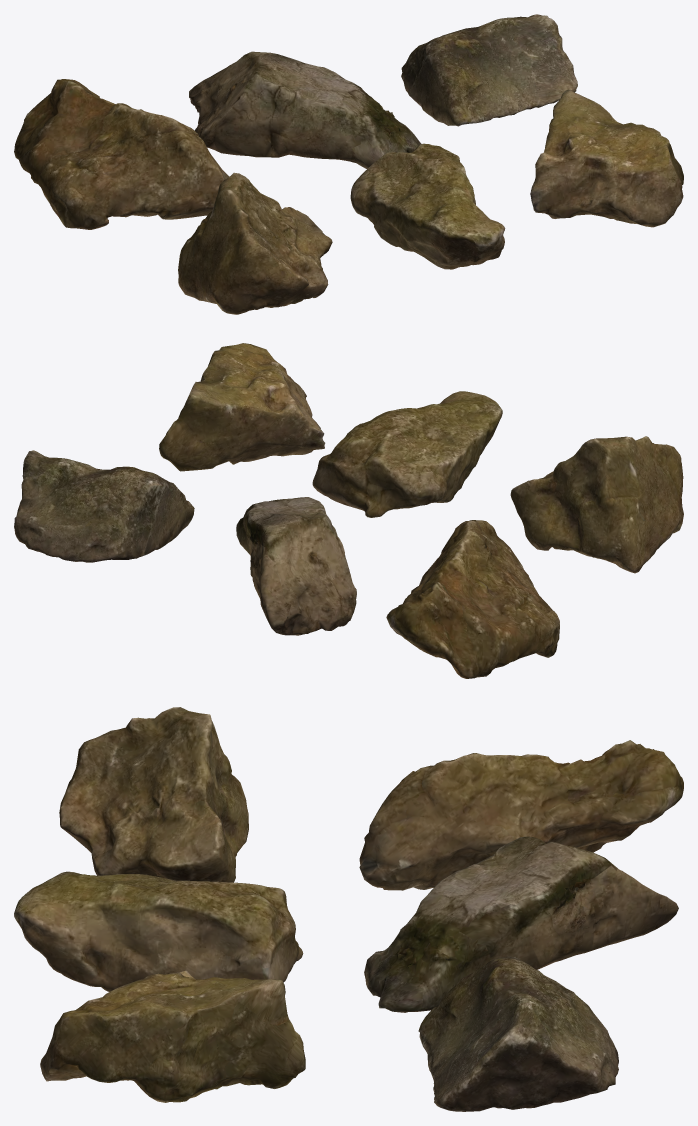
Rendered from stones.glb.
3 views of the same model, one above another, from view 1: azimuth 30°, elevation 25°; view 2: azimuth 150°, elevation 25°; view 3: azimuth 270°, elevation 25° (orthographic). The views are drawn at different scales.
Parts seen in each view (by area): view 1: rock_moss_set_01_rock01, rock_moss_set_01_rock02, rock_moss_set_01_rock06, rock_moss_set_01_rock04, rock_moss_set_01_rock03, rock_moss_set_01_rock05; view 2: rock_moss_set_01_rock04, rock_moss_set_01_rock01, rock_moss_set_01_rock05, rock_moss_set_01_rock03, rock_moss_set_01_rock06, rock_moss_set_01_rock02; view 3: rock_moss_set_01_rock01, rock_moss_set_01_rock02, rock_moss_set_01_rock05, rock_moss_set_01_rock06, rock_moss_set_01_rock04, rock_moss_set_01_rock03.
Boxes of the visible parts, x1,y1,x2,y2 form: rock_moss_set_01_rock01: (14, 79, 229, 229); rock_moss_set_01_rock02: (189, 51, 421, 168); rock_moss_set_01_rock06: (530, 89, 683, 227); rock_moss_set_01_rock04: (178, 172, 332, 314); rock_moss_set_01_rock03: (401, 14, 577, 126); rock_moss_set_01_rock05: (350, 143, 505, 269); rock_moss_set_01_rock04: (510, 436, 683, 573); rock_moss_set_01_rock01: (386, 520, 559, 678); rock_moss_set_01_rock05: (312, 391, 502, 517); rock_moss_set_01_rock03: (14, 450, 194, 562); rock_moss_set_01_rock06: (159, 343, 325, 471); rock_moss_set_01_rock02: (236, 497, 356, 635); rock_moss_set_01_rock01: (359, 740, 683, 890); rock_moss_set_01_rock02: (364, 836, 678, 1012); rock_moss_set_01_rock05: (14, 871, 303, 991); rock_moss_set_01_rock06: (40, 970, 305, 1102); rock_moss_set_01_rock04: (59, 707, 248, 882); rock_moss_set_01_rock03: (418, 956, 618, 1111).
Size of the model in its own units: 8 by 1.76 by 6.94.
1 material, 1 textured.
